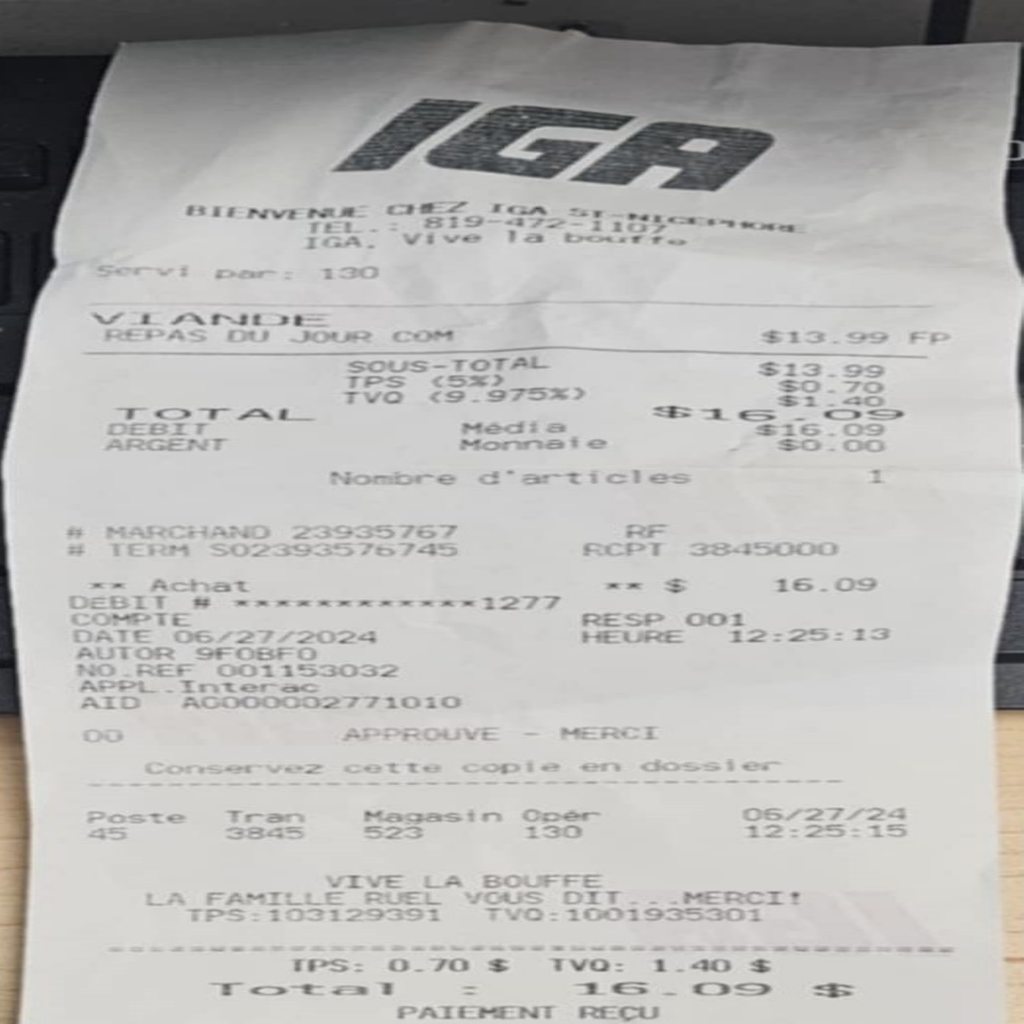recipt: (0, 19, 1024, 1020)
